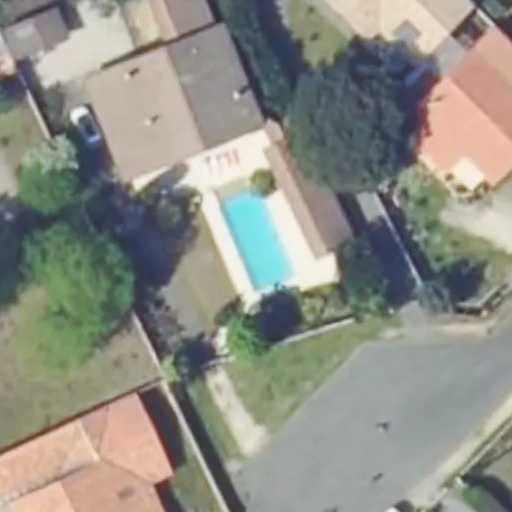pool: (218, 205, 294, 278)
